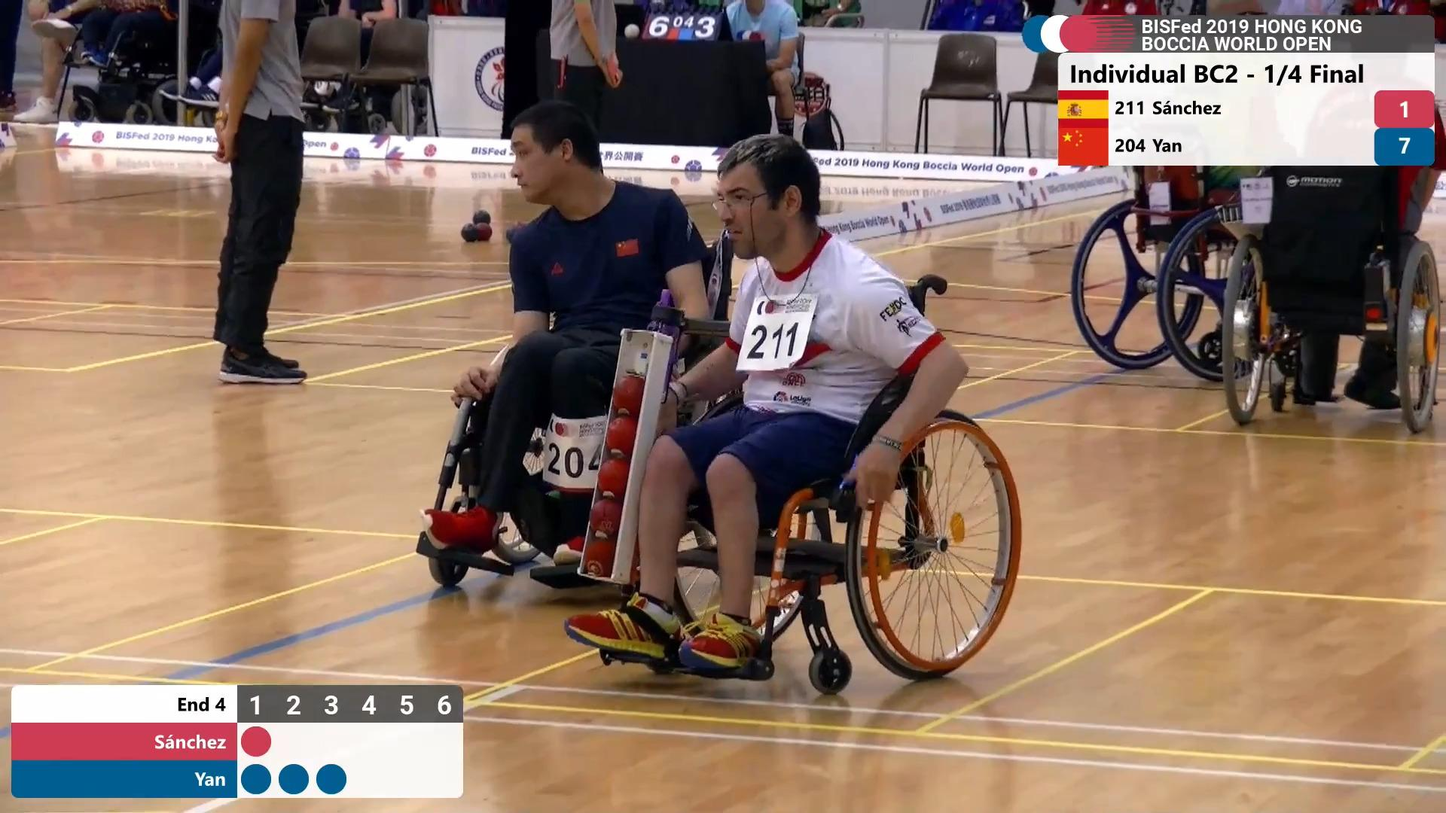blue_ball: (461, 222, 478, 242), (473, 209, 491, 226)
red_ball: (613, 374, 650, 417), (596, 461, 634, 500), (607, 418, 642, 460), (475, 223, 493, 241)
